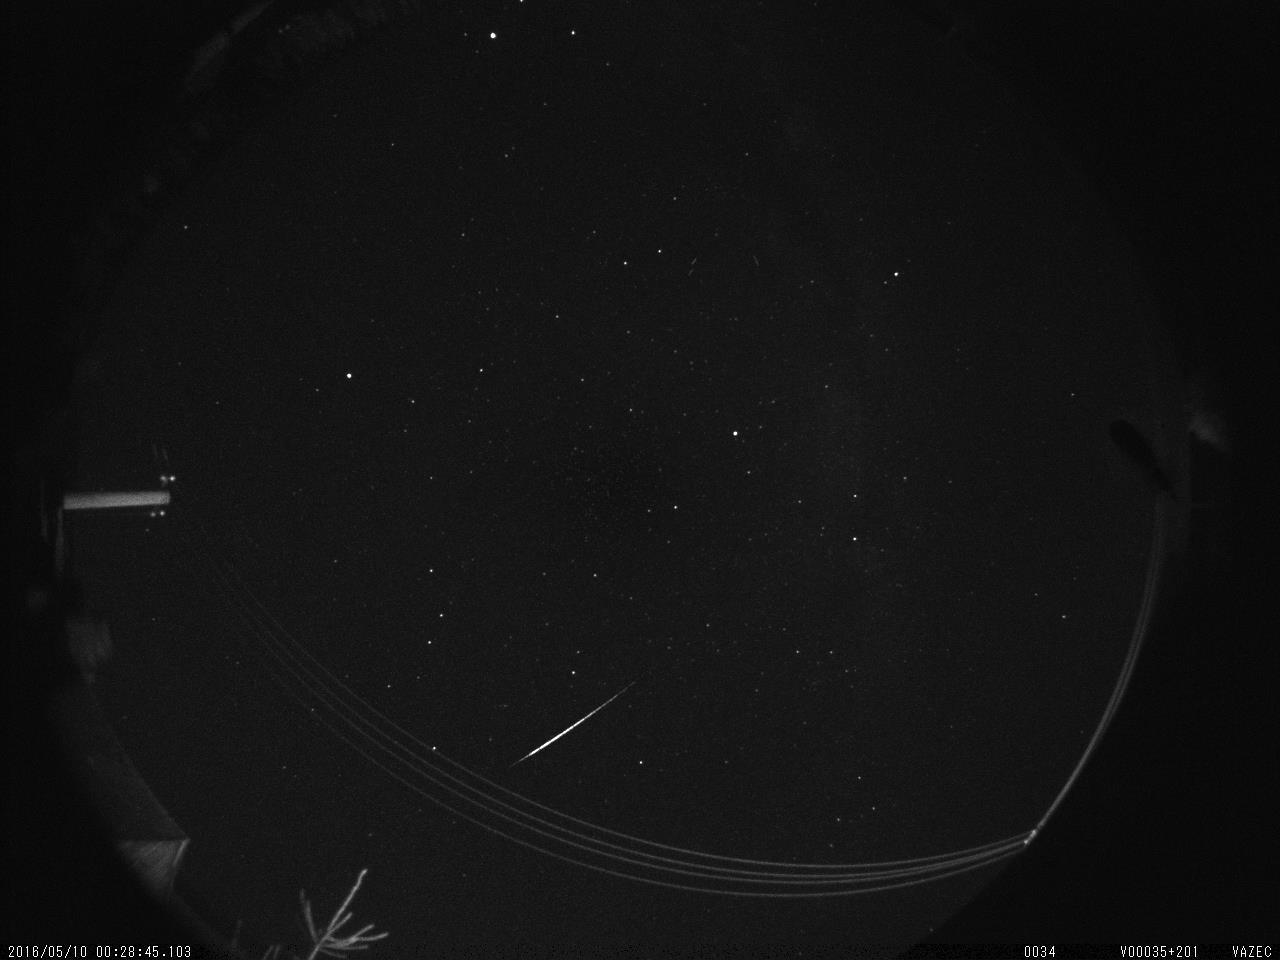Meteor: (510, 672, 647, 772)
